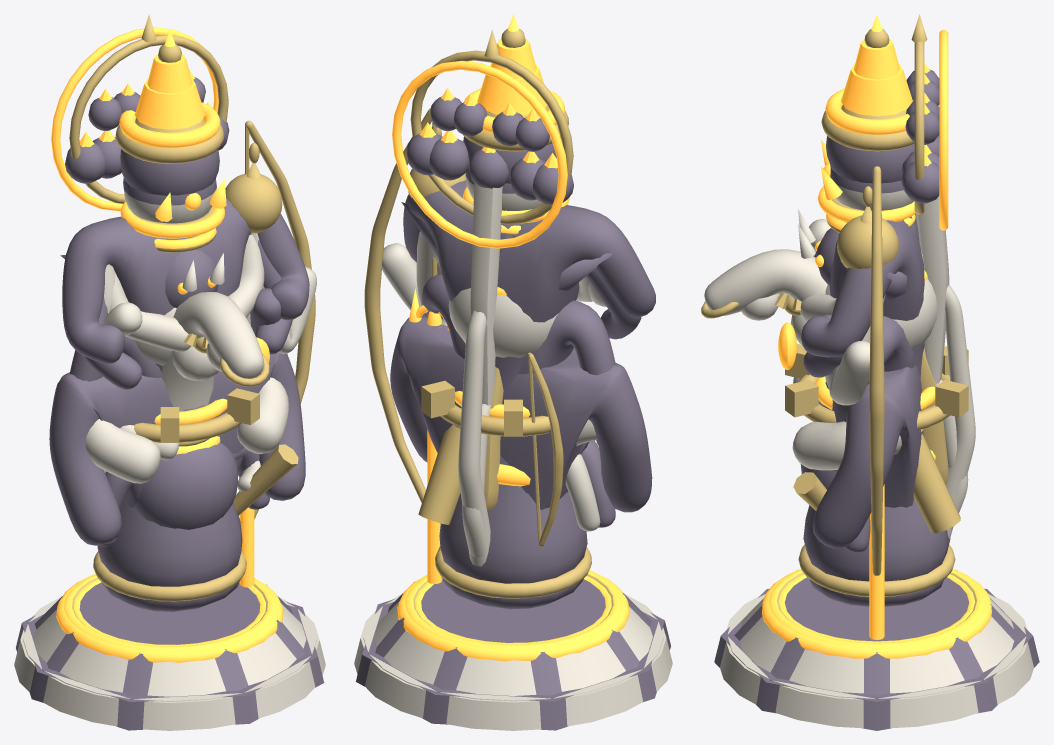
The model's file is pieces.glb.
3 views of the same model, side by side, from view 1: azimuth 30°, elevation 25°; view 2: azimuth 150°, elevation 25°; view 3: azimuth 270°, elevation 25° (orthographic). The views are drawn at different scales.
Visible parts, largest first — view 1: k-lanka, k-ram, r-lanka, q-lanka, r-ram, q-ram, n-ram, b-lanka, b-ram, p-ram, p-lanka; view 2: k-lanka, k-ram, r-lanka, q-lanka, r-ram, b-lanka, q-ram, n-ram, b-ram, p-ram, p-lanka, n-lanka; view 3: k-lanka, k-ram, r-lanka, q-lanka, r-ram, n-ram, q-ram, b-ram, b-lanka, p-ram, n-lanka.
Boxes of the visible parts, x1=… form: k-lanka: x1=16, y1=27, x2=324, y2=730; k-ram: x1=14, y1=14, x2=325, y2=730; r-lanka: x1=49, y1=352, x2=305, y2=611; q-lanka: x1=27, y1=178, x2=312, y2=699; r-ram: x1=85, y1=307, x2=288, y2=601; q-ram: x1=23, y1=188, x2=316, y2=701; n-ram: x1=162, y1=253, x2=269, y2=411; b-lanka: x1=70, y1=249, x2=281, y2=646; b-ram: x1=120, y1=143, x2=282, y2=460; p-ram: x1=104, y1=444, x2=298, y2=515; p-lanka: x1=100, y1=403, x2=269, y2=546; k-lanka: x1=356, y1=14, x2=670, y2=730; k-ram: x1=354, y1=28, x2=672, y2=730; r-lanka: x1=390, y1=287, x2=652, y2=609; q-lanka: x1=368, y1=169, x2=658, y2=698; r-ram: x1=421, y1=288, x2=597, y2=598; b-lanka: x1=409, y1=223, x2=615, y2=644; q-ram: x1=363, y1=176, x2=663, y2=701; n-ram: x1=418, y1=202, x2=568, y2=546; b-ram: x1=408, y1=127, x2=490, y2=566; p-ram: x1=462, y1=404, x2=600, y2=557; p-lanka: x1=579, y1=441, x2=615, y2=527; n-lanka: x1=497, y1=464, x2=530, y2=486; k-lanka: x1=714, y1=15, x2=1039, y2=730; k-ram: x1=720, y1=14, x2=1033, y2=728; r-lanka: x1=800, y1=270, x2=944, y2=606; q-lanka: x1=727, y1=163, x2=1026, y2=699; r-ram: x1=785, y1=278, x2=968, y2=596; n-ram: x1=701, y1=209, x2=960, y2=533; q-ram: x1=727, y1=184, x2=1026, y2=698; b-ram: x1=818, y1=186, x2=975, y2=539; b-lanka: x1=778, y1=214, x2=975, y2=642; p-ram: x1=793, y1=379, x2=968, y2=529; n-lanka: x1=778, y1=322, x2=935, y2=460.
Bounding box in the file's own units: 0.6241 × 1.34 × 0.6344.
